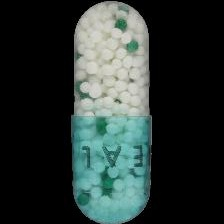63629-3201: (0, 0, 224, 224)
